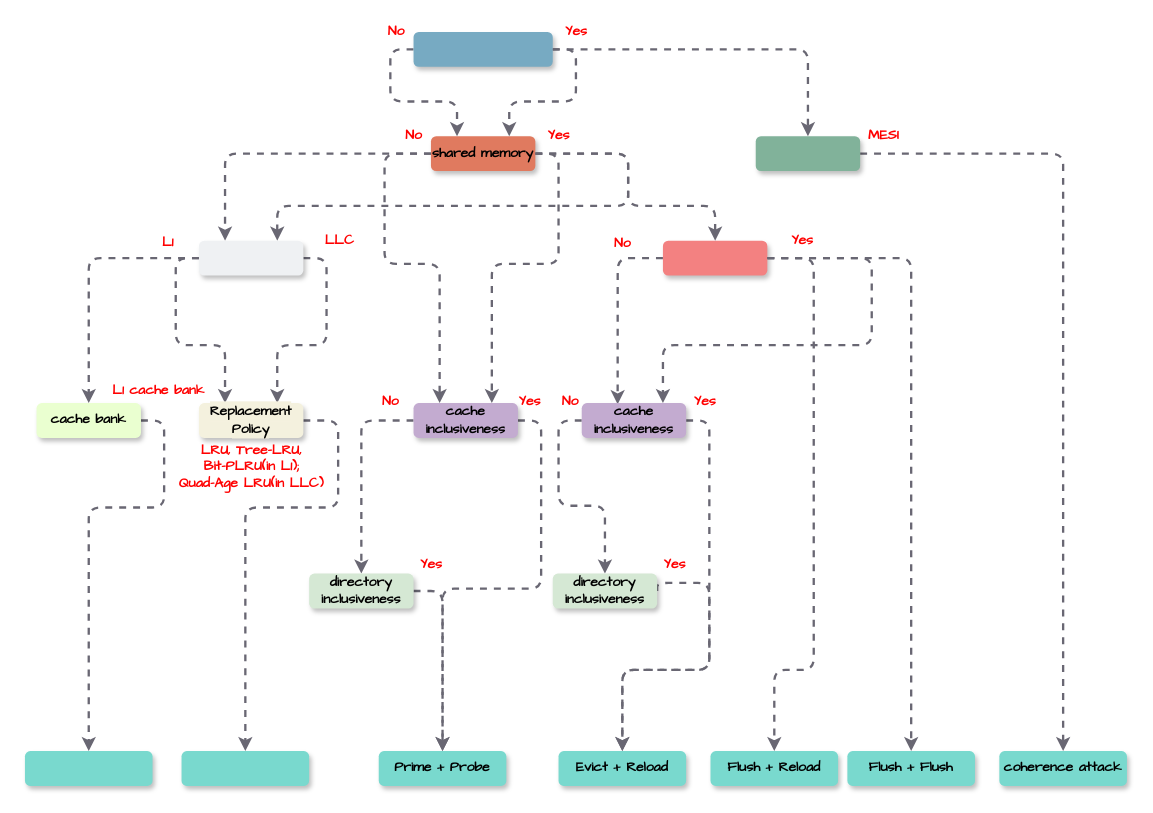
This 1153x813 diagram has some shape labels left out. Here are the shapes that lost their labels. From the top down, the centre of each, then its label:
At pixel 483 50: "Multiprocesor".
At pixel 809 155: "cache coherence".
At pixel 252 259: "cache level".
At pixel 716 259: "clflush".
At pixel 89 769: "CacheBleed".
At pixel 246 769: "Replacement Attack".
